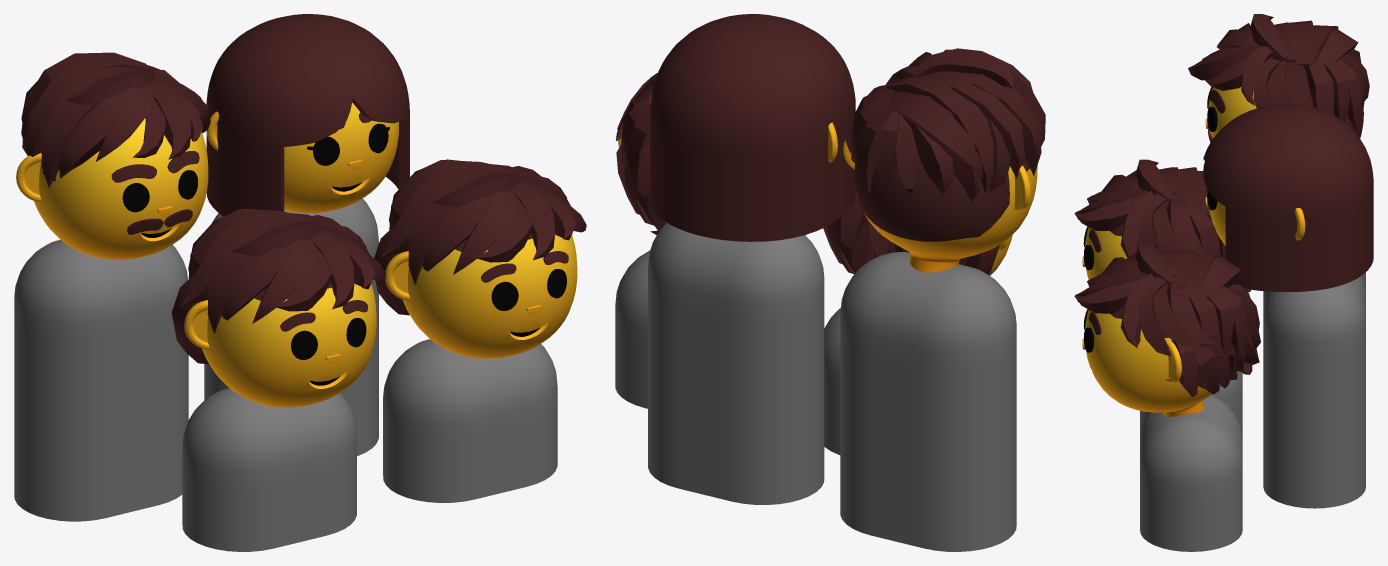
The model's file is family__man_woman_boy_boy.gltf.
3 views of the same model, side by side, from view 1: azimuth 30°, elevation 25°; view 2: azimuth 150°, elevation 25°; view 3: azimuth 270°, elevation 25° (orthographic). The views are drawn at different scales.
Parts seen in each view (by area): view 1: Sphere.287, Roundcube.347, Sphere.286, Sphere.289, Cube.4385, Cube.4440, Cube.4417, Roundcube.344, Roundcube.348, Roundcube.345, Roundcube.346, Sphere.288 (+11 smaller); view 2: Sphere.287, Sphere.288, Roundcube.347, Cube.4417, Roundcube.345, Sphere.289, Cube.4440, Cube.4385, Sphere.286, Cylinder.052; view 3: Roundcube.347, Sphere.288, Cube.4440, Sphere.289, Cube.4417, Cube.4385, Roundcube.348, Roundcube.345, Roundcube.344, Sphere.286, Cylinder.054, Roundcube.346.
Boxes of the visible parts, left/top/right/bottom form: Sphere.287: left=14, top=239, right=188, bottom=521; Roundcube.347: left=206, top=14, right=409, bottom=216; Sphere.286: left=182, top=388, right=356, bottom=551; Sphere.289: left=383, top=339, right=557, bottom=502; Cube.4385: left=171, top=208, right=385, bottom=364; Cube.4440: left=374, top=159, right=586, bottom=315; Cube.4417: left=21, top=52, right=210, bottom=187; Roundcube.344: left=202, top=283, right=376, bottom=407; Roundcube.348: left=403, top=234, right=577, bottom=358; Roundcube.345: left=34, top=118, right=208, bottom=259; Roundcube.346: left=284, top=103, right=398, bottom=213; Sphere.288: left=204, top=198, right=378, bottom=456; Sphere.287: left=840, top=252, right=1016, bottom=551; Sphere.288: left=648, top=223, right=824, bottom=504; Roundcube.347: left=650, top=14, right=855, bottom=241; Cube.4417: left=845, top=48, right=1045, bottom=201; Roundcube.345: left=854, top=154, right=1037, bottom=272; Sphere.289: left=615, top=250, right=649, bottom=408; Cube.4440: left=615, top=73, right=666, bottom=234; Cube.4385: left=823, top=188, right=999, bottom=274; Sphere.286: left=824, top=308, right=840, bottom=454; Cylinder.052: left=843, top=138, right=1030, bottom=210; Roundcube.347: left=1203, top=104, right=1373, bottom=292; Sphere.288: left=1263, top=276, right=1365, bottom=508; Cube.4440: left=1074, top=242, right=1260, bottom=397; Sphere.289: left=1140, top=395, right=1242, bottom=551; Cube.4417: left=1188, top=14, right=1369, bottom=130; Cube.4385: left=1074, top=159, right=1250, bottom=292; Roundcube.348: left=1085, top=294, right=1220, bottom=416; Roundcube.345: left=1208, top=58, right=1363, bottom=138; Roundcube.344: left=1085, top=211, right=1168, bottom=279; Sphere.286: left=1140, top=371, right=1242, bottom=439; Cylinder.054: left=1166, top=341, right=1181, bottom=383; Roundcube.346: left=1209, top=201, right=1225, bottom=245.
Size of the model in its own units: 2.51 by 2.2 by 1.61.
1 material, 1 textured.
